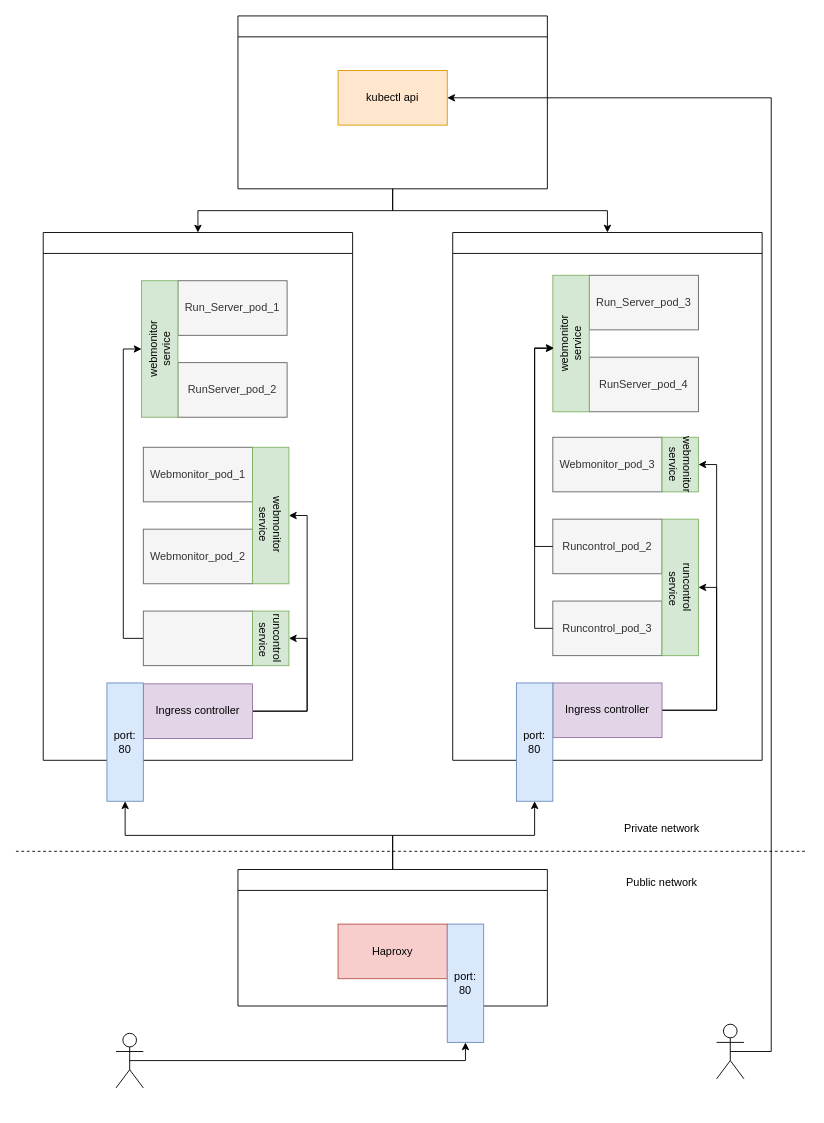
This 824x1123 diagram has some shape labels left out. The box of each missing label's shape, as (x1, y1, x2, y2) in pixels:
Developer: (716, 1023, 744, 1079)
Master Node: (237, 15, 547, 189)
Public facing entrypoint/loadbalancer: (237, 869, 547, 1006)
Runcontrol_pod_1: (142, 610, 253, 666)
Slave Node 1: (42, 232, 353, 760)
Slave Node 2: (452, 232, 762, 760)
User: (115, 1032, 143, 1088)
